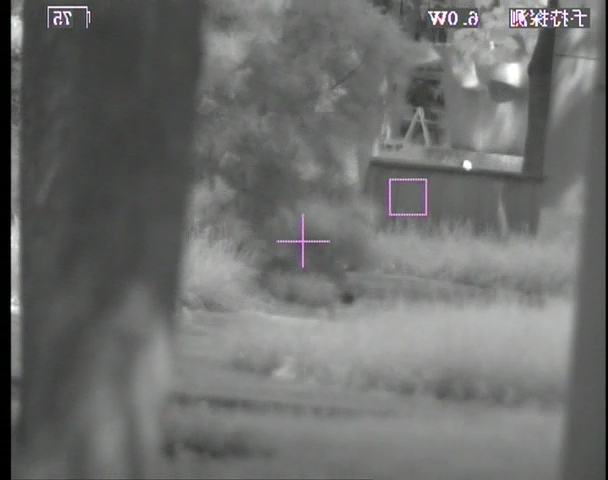my: (462, 159, 473, 172)
